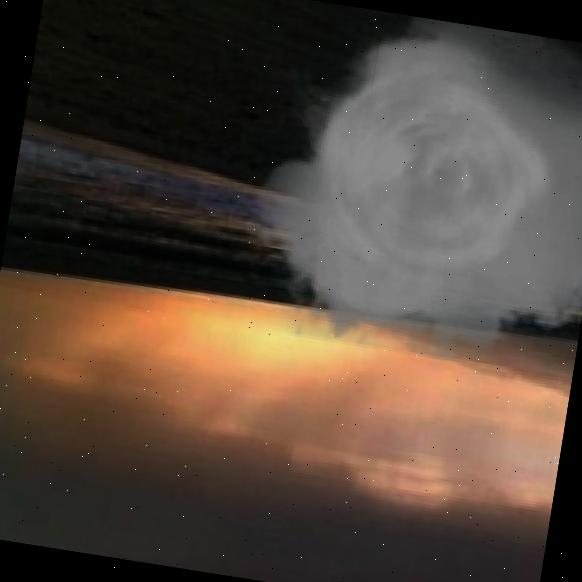smoke: (221, 0, 582, 380)
